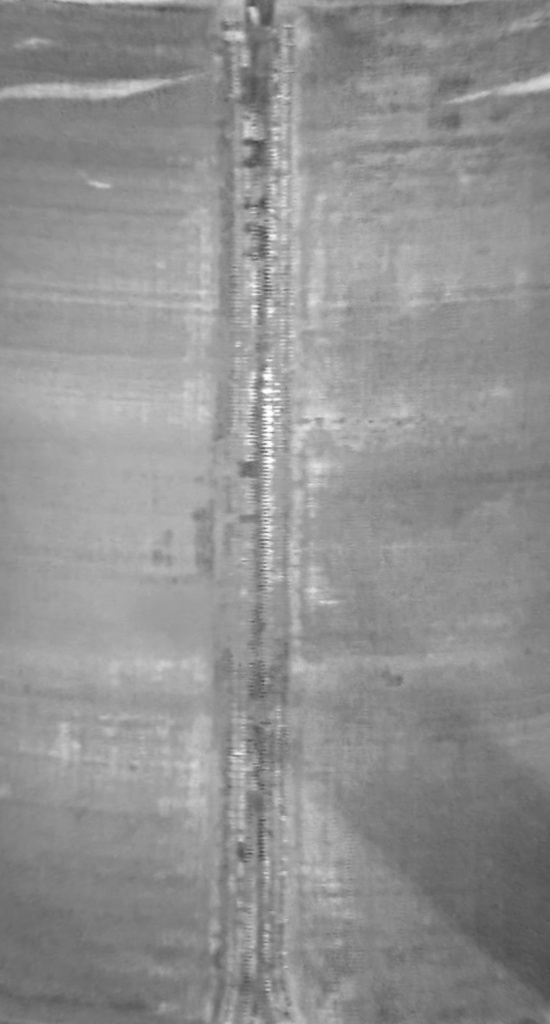splice: (218, 4, 315, 1024)
